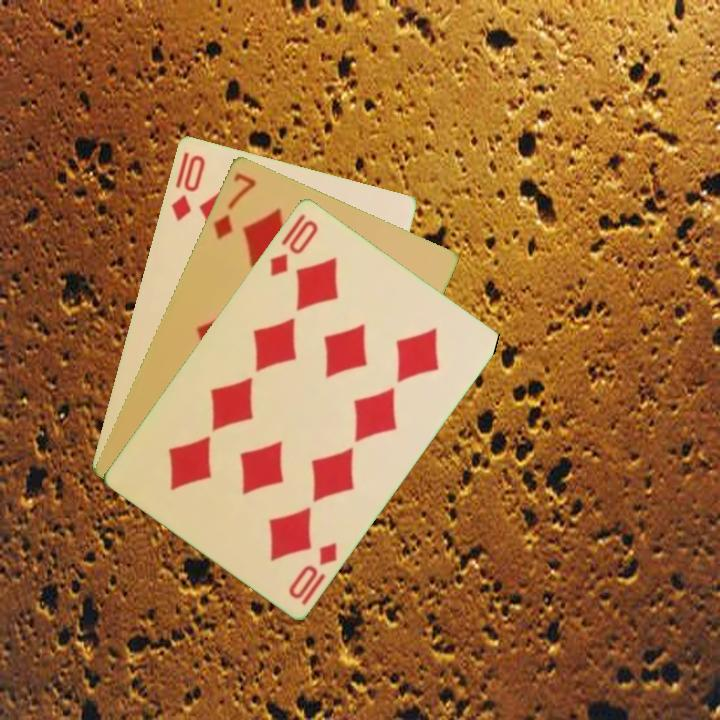10d: (284, 538, 340, 608), (266, 210, 322, 279), (167, 150, 208, 223)
7d: (209, 169, 259, 243)
